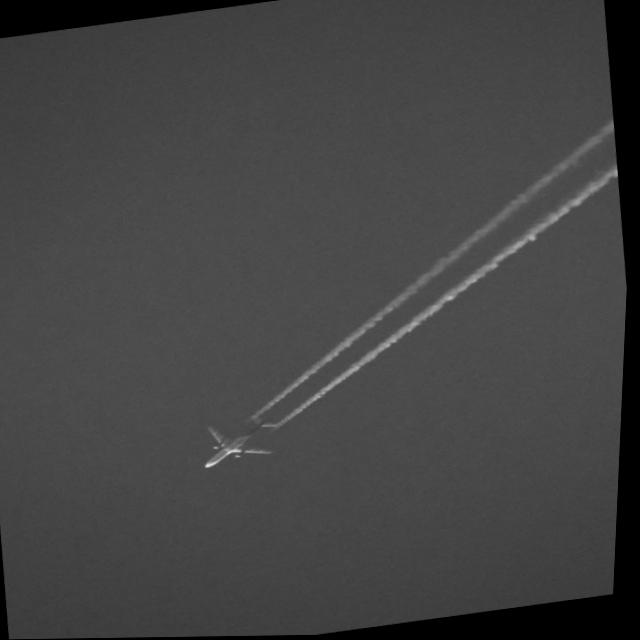aeroplane: (199, 410, 296, 468)
